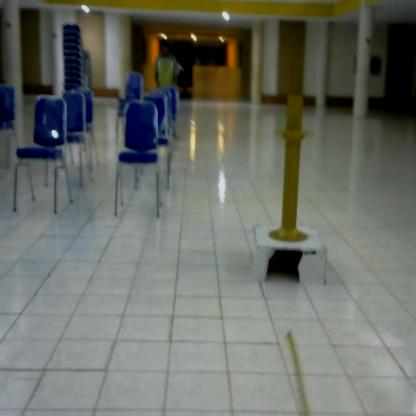pole: (267, 89, 321, 246)
